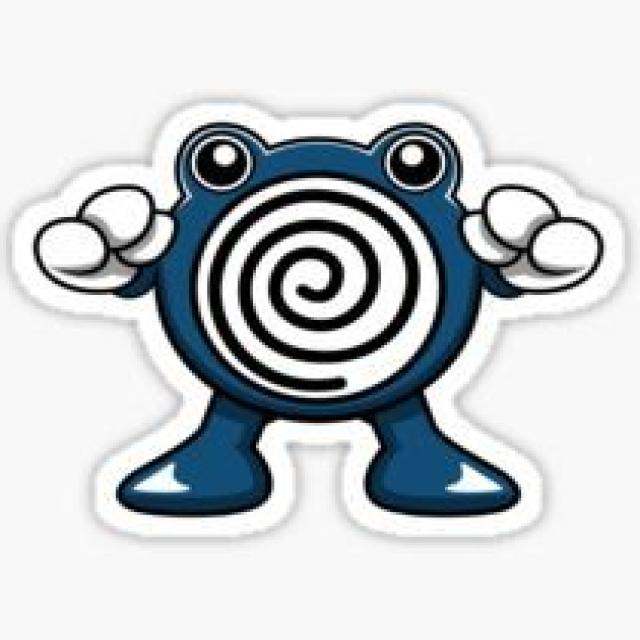Poliwhirl: (65, 112, 590, 521)
